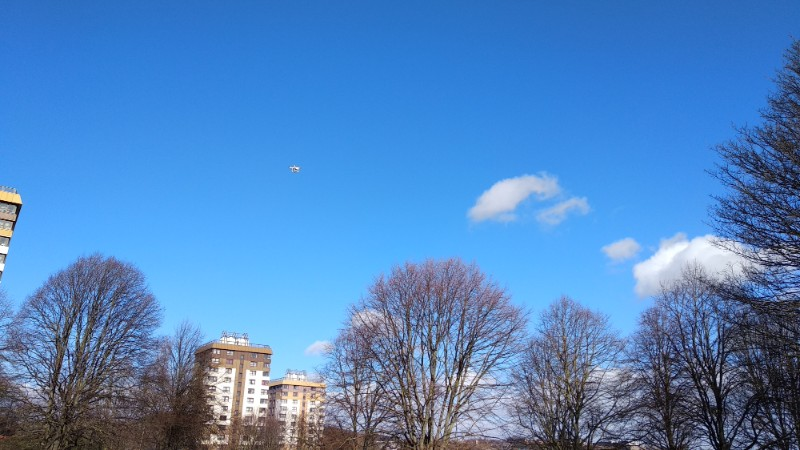drone: (288, 164, 301, 174)
